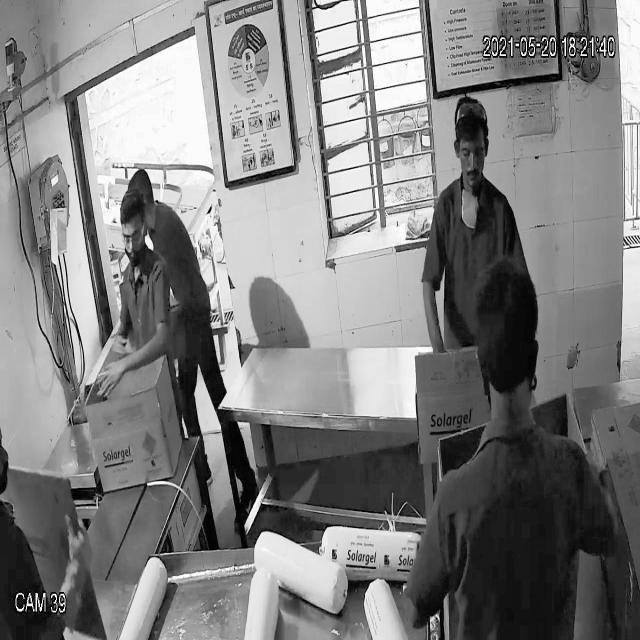hairnet: (122, 238, 148, 268)
